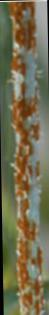Sugarcane: (11, 14, 45, 299)
